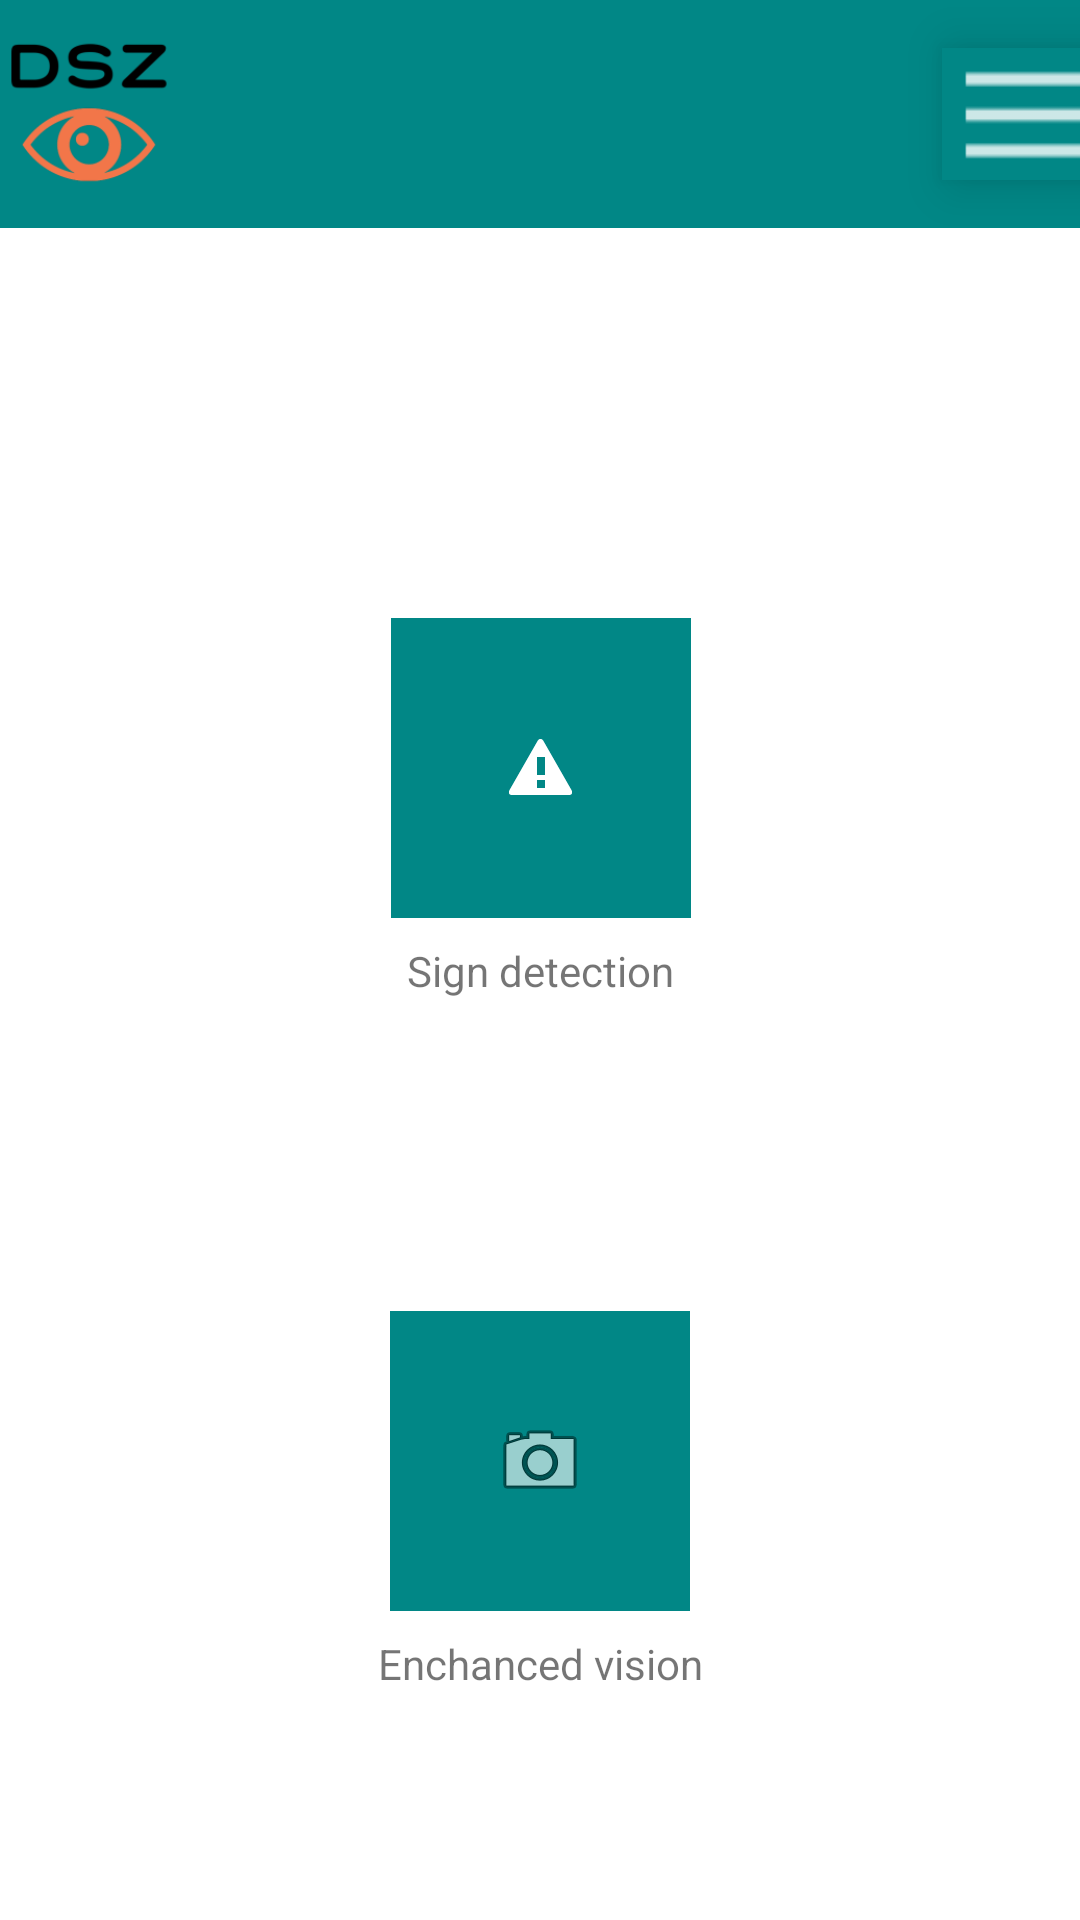

Icons on this 1080 × 1920 Android screen, each with the point to tap as point (x, y):
camera: point (540, 1461)
warning: point (541, 768)
